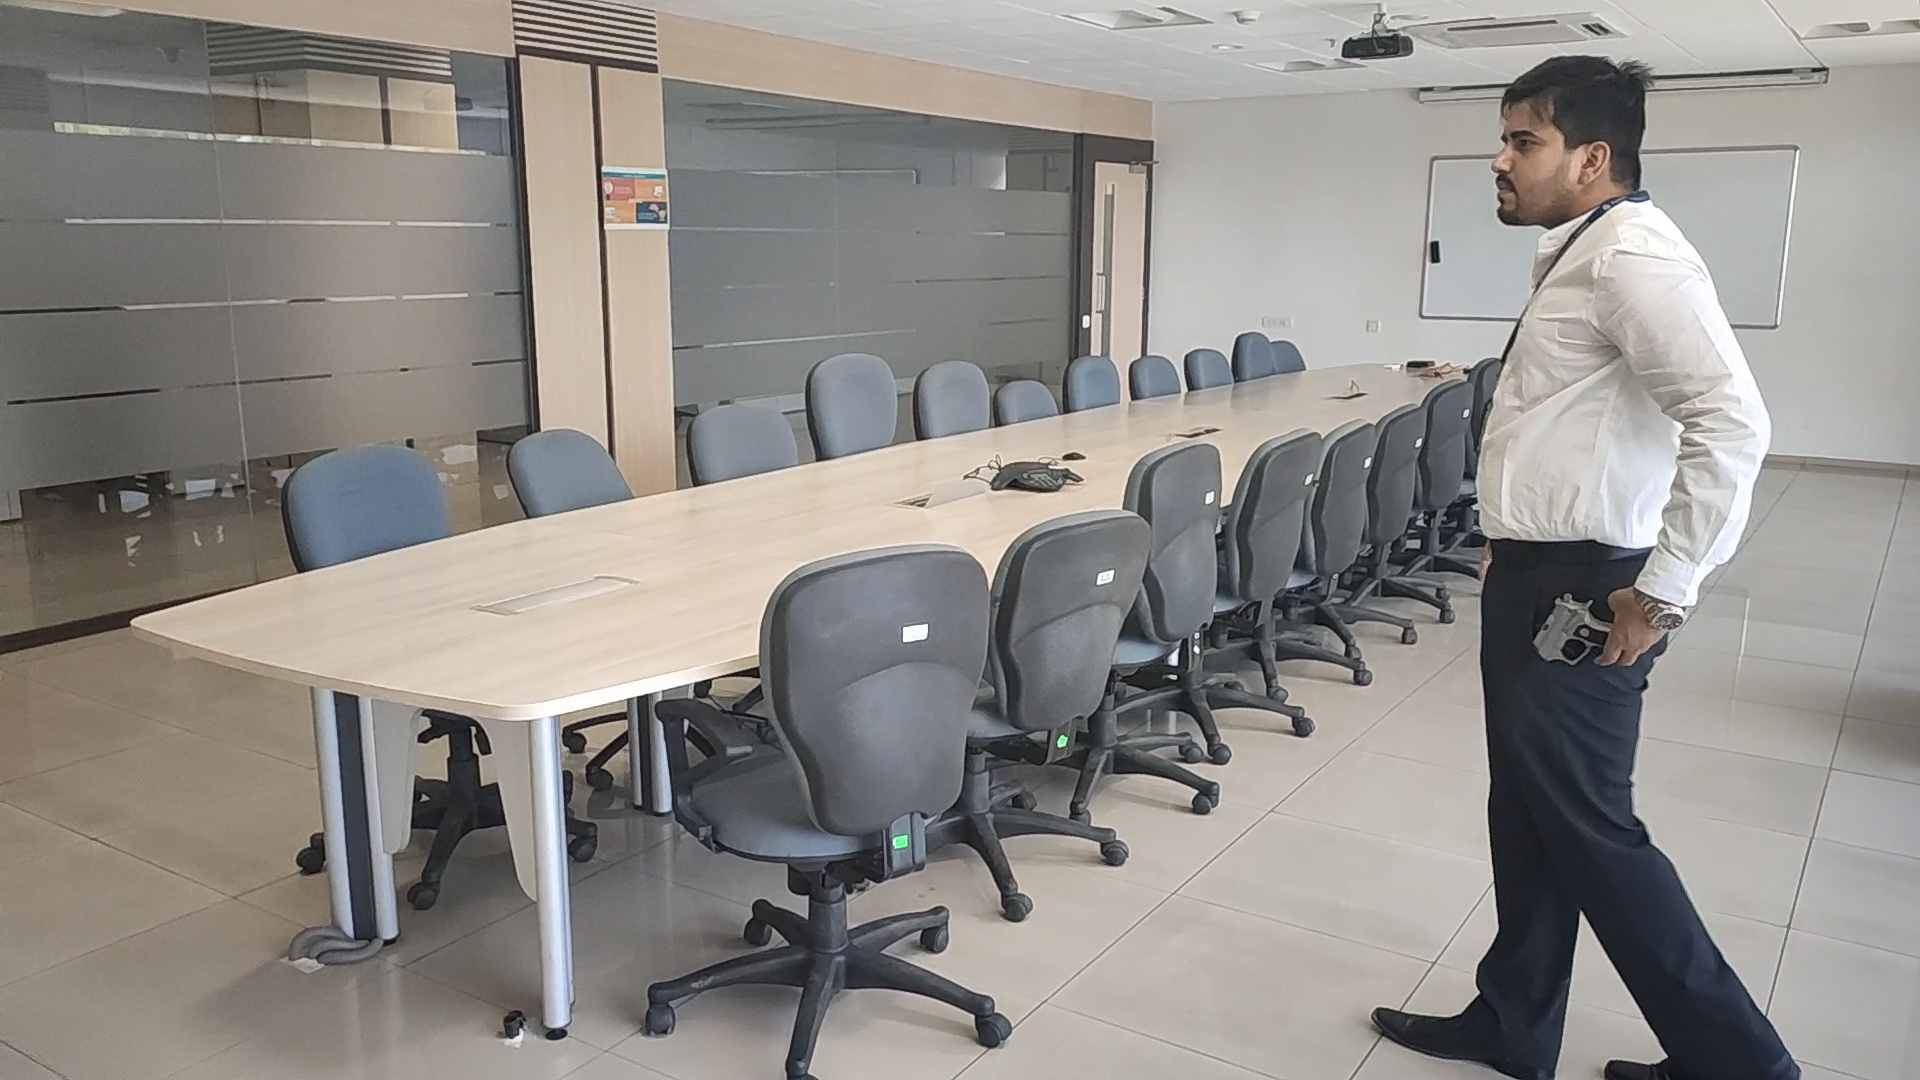gun: (1531, 589, 1610, 669)
